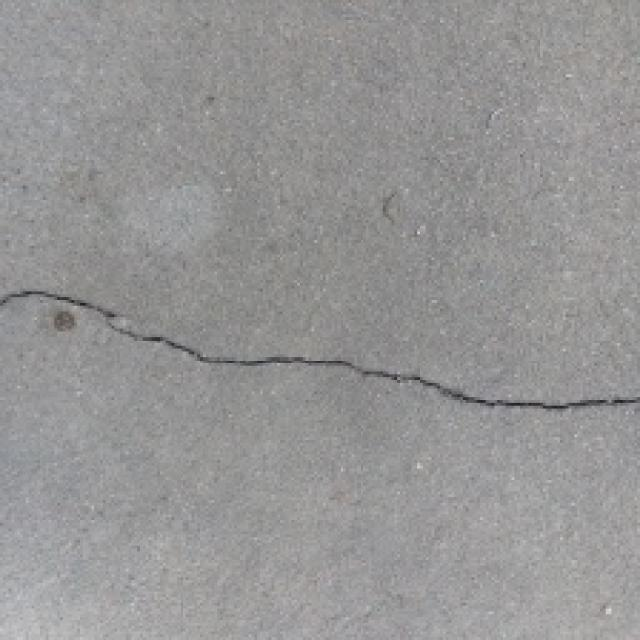SurfaceCrack: (6, 266, 640, 470)
